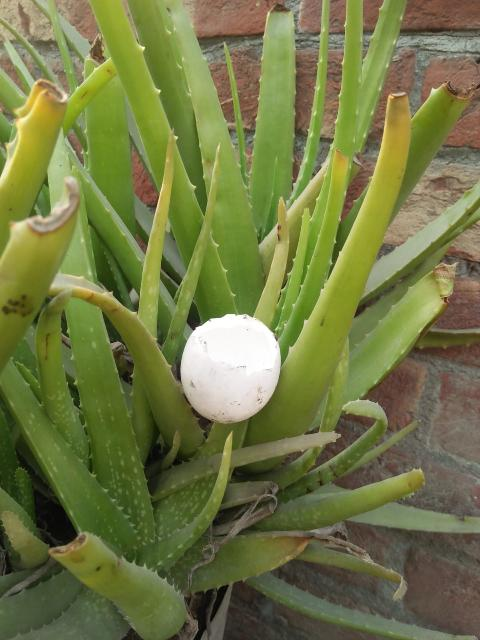Roto: (179, 312, 281, 424)
